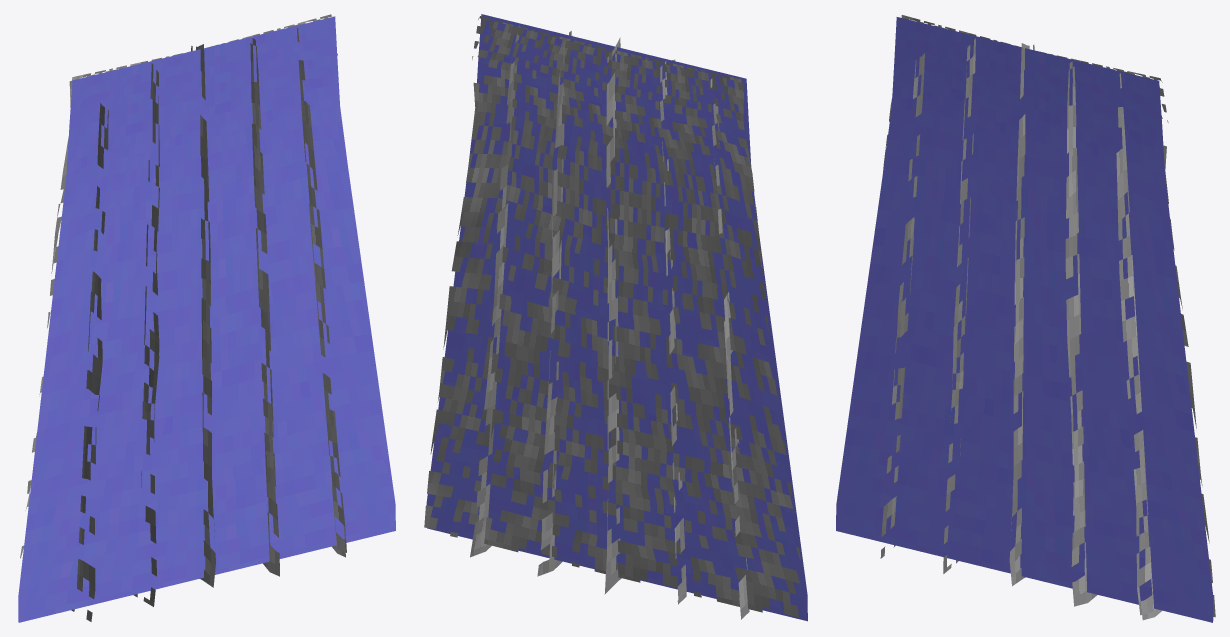
The model's file is vanilla_effects_fxwaterfallthinsheet-c5588319.glb.
3 renders of one model, left to right at view 1: azimuth 30°, elevation 25°; view 2: azimuth 150°, elevation 25°; view 3: azimuth 330°, elevation 25°, orthographic.
Visible parts, largest first — view 1: es|Warp, es|fallsCrossMesh05, es|fallsMesh06; view 2: es|fallsMesh06, es|Warp, es|fallsCrossMesh05; view 3: es|Warp, es|fallsCrossMesh05, es|fallsMesh06.
Boxes of the visible parts, x1,y1,x2,y2 form: es|Warp: [18, 16, 395, 622]; es|fallsCrossMesh05: [71, 26, 346, 621]; es|fallsMesh06: [20, 14, 337, 558]; es|fallsMesh06: [424, 16, 800, 617]; es|Warp: [426, 14, 807, 621]; es|fallsCrossMesh05: [470, 25, 749, 619]; es|Warp: [836, 17, 1213, 622]; es|fallsCrossMesh05: [880, 38, 1161, 620]; es|fallsMesh06: [883, 15, 1215, 617].
Size of the model in its own units: 9.45 by 12.97 by 1.34.
Materials: 3 (3 with a texture image).
